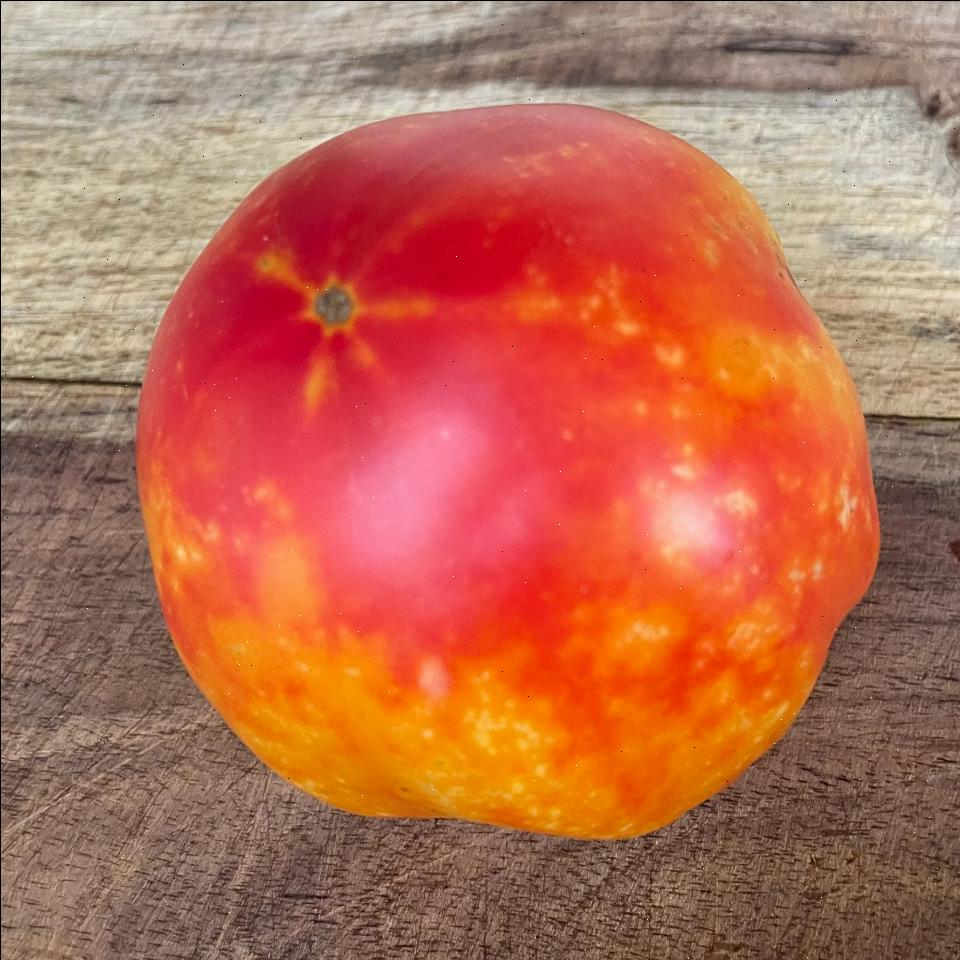Spotted wilt Virus: (133, 97, 878, 842)
